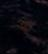four: (19, 19, 26, 34)
